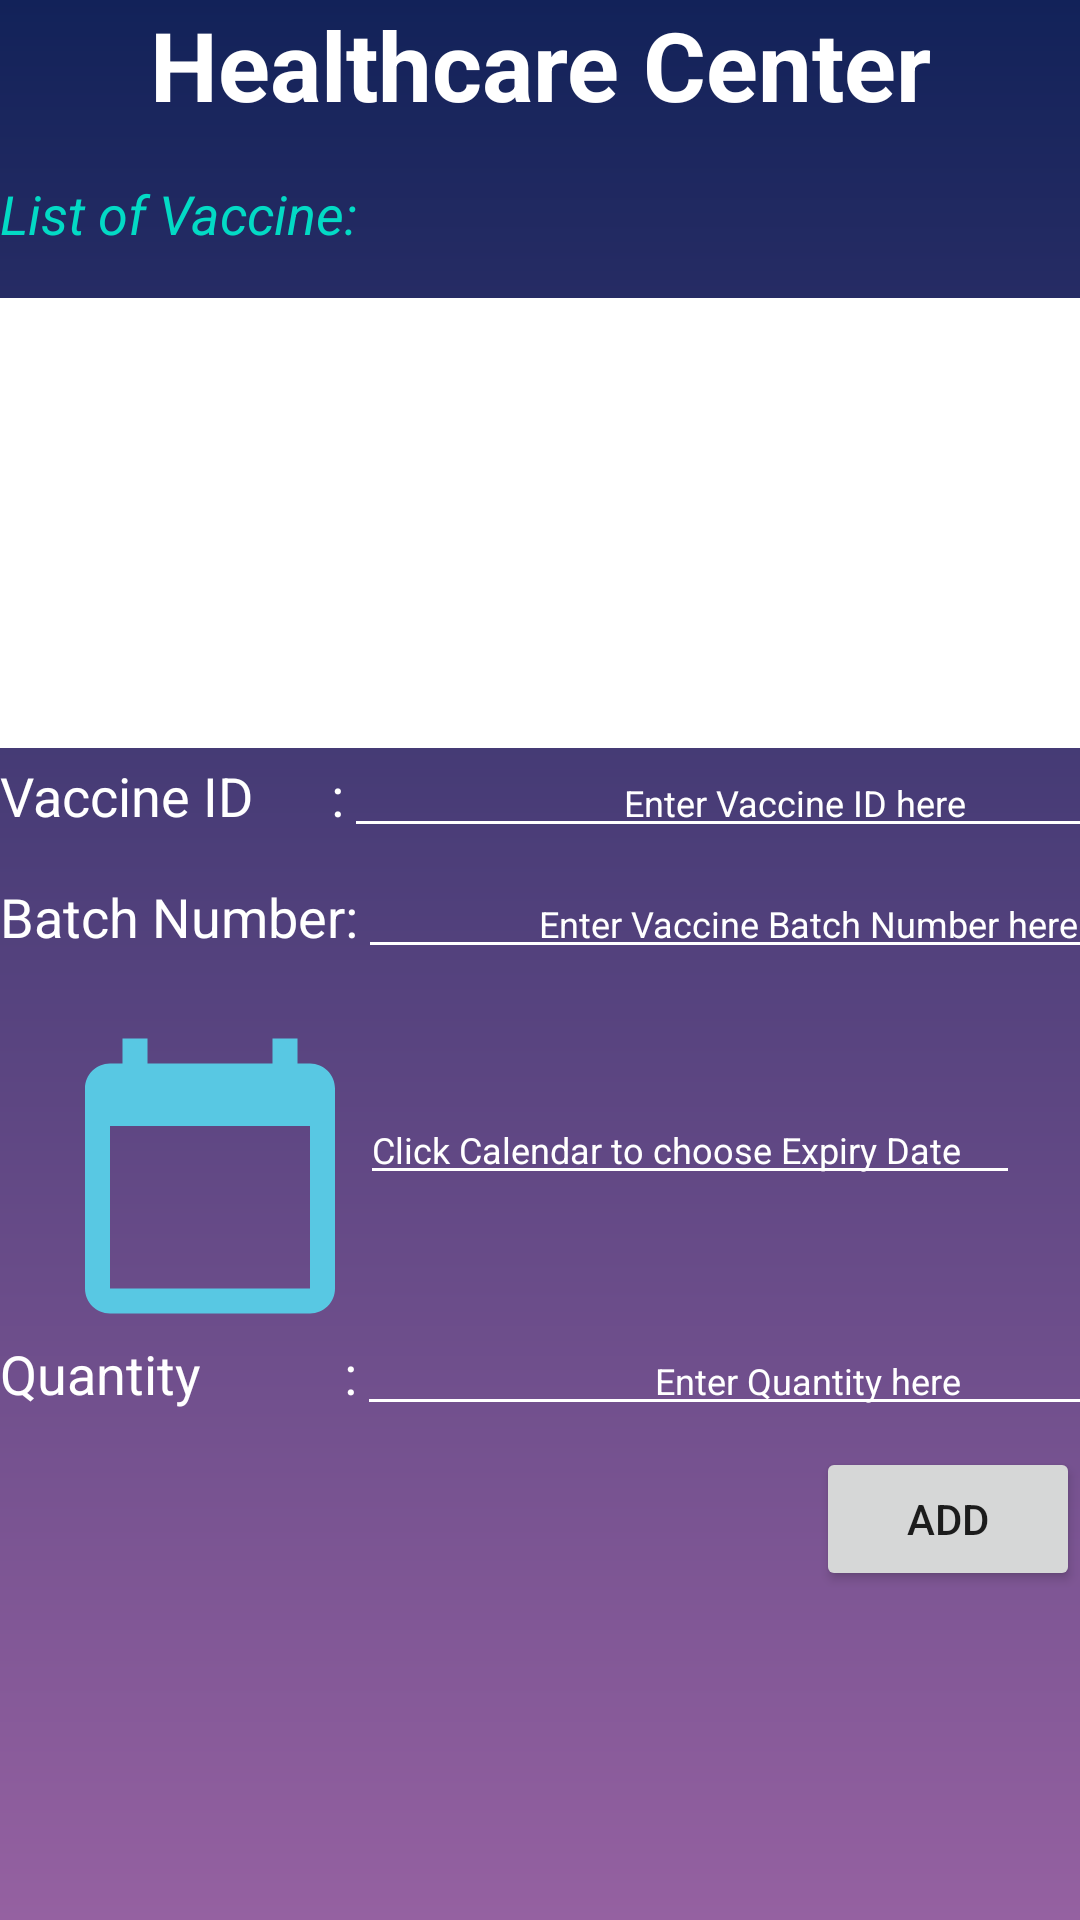

Icon click points for this 1080px×1920px phone screenshot, format point (x, y):
This is a calendar button: point (210, 1170)
